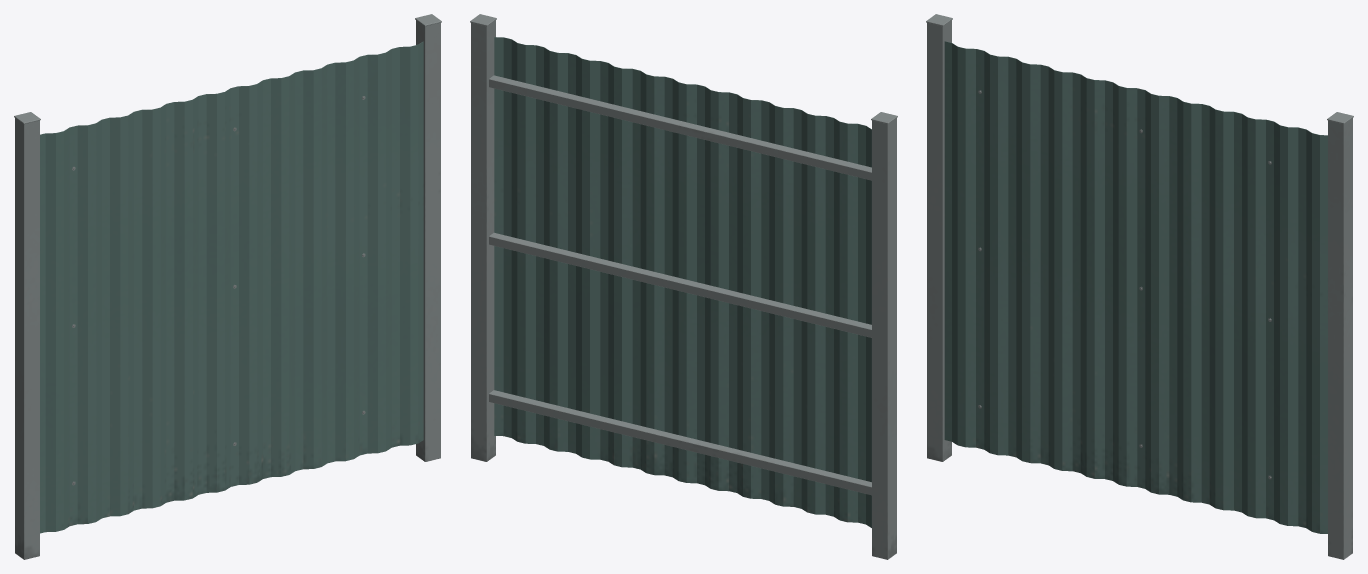
Rendered from metal_fence_straight.glb.
3 views of the same model, side by side, from view 1: azimuth 30°, elevation 25°; view 2: azimuth 150°, elevation 25°; view 3: azimuth 330°, elevation 25° (orthographic).
Visible parts, largest first — view 1: MetalFenceStraight; view 2: MetalFenceStraight; view 3: MetalFenceStraight.
Boxes of the visible parts, x1=… form: MetalFenceStraight: x1=14, y1=14, x2=441, y2=559; MetalFenceStraight: x1=470, y1=14, x2=897, y2=559; MetalFenceStraight: x1=926, y1=14, x2=1353, y2=559.
Size of what is drawn, in the model's own units: 2.09 by 2.09 by 0.0872.
Materials: 1 (1 with a texture image).
